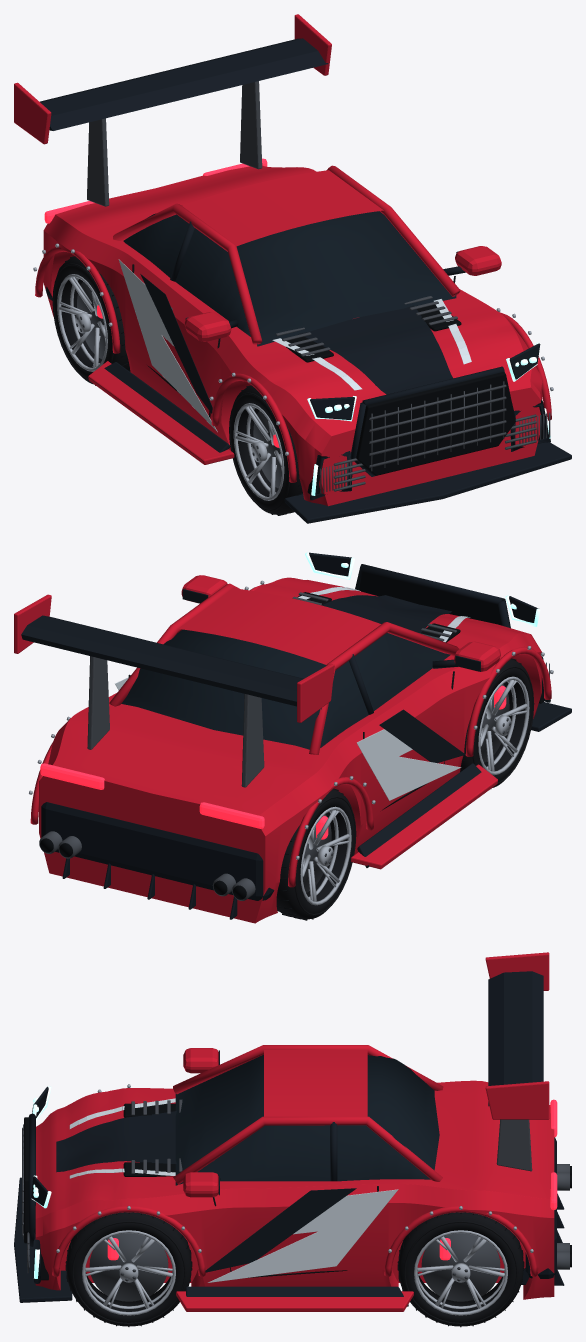
Rendered from driftfox.glb.
The picture shows the model from 3 angles, top to bottom: view 1: azimuth 30°, elevation 25°; view 2: azimuth 150°, elevation 25°; view 3: azimuth 270°, elevation 25°; orthographic projection. The views are drawn at different scales.
Visible parts, largest first — view 1: body, wheel_fl_spin_mesh, wheel_rl_spin_mesh; view 2: body, wheel_rl_spin_mesh, wheel_fl_spin_mesh; view 3: body, wheel_rr_spin_mesh, wheel_fr_spin_mesh.
Boxes of the visible parts, left/top/right/bottom form: body: left=14, top=14, right=571, bottom=523; wheel_fl_spin_mesh: left=229, top=385, right=302, bottom=515; wheel_rl_spin_mesh: left=52, top=256, right=130, bottom=385; body: left=14, top=552, right=571, bottom=923; wheel_rl_spin_mesh: left=276, top=788, right=356, bottom=920; wheel_fl_spin_mesh: left=460, top=658, right=534, bottom=788; body: left=14, top=952, right=571, bottom=1311; wheel_rr_spin_mesh: left=397, top=1212, right=524, bottom=1327; wheel_fr_spin_mesh: left=65, top=1212, right=192, bottom=1326.
Size of the model in its own units: 2.32 by 1.98 by 3.93.
